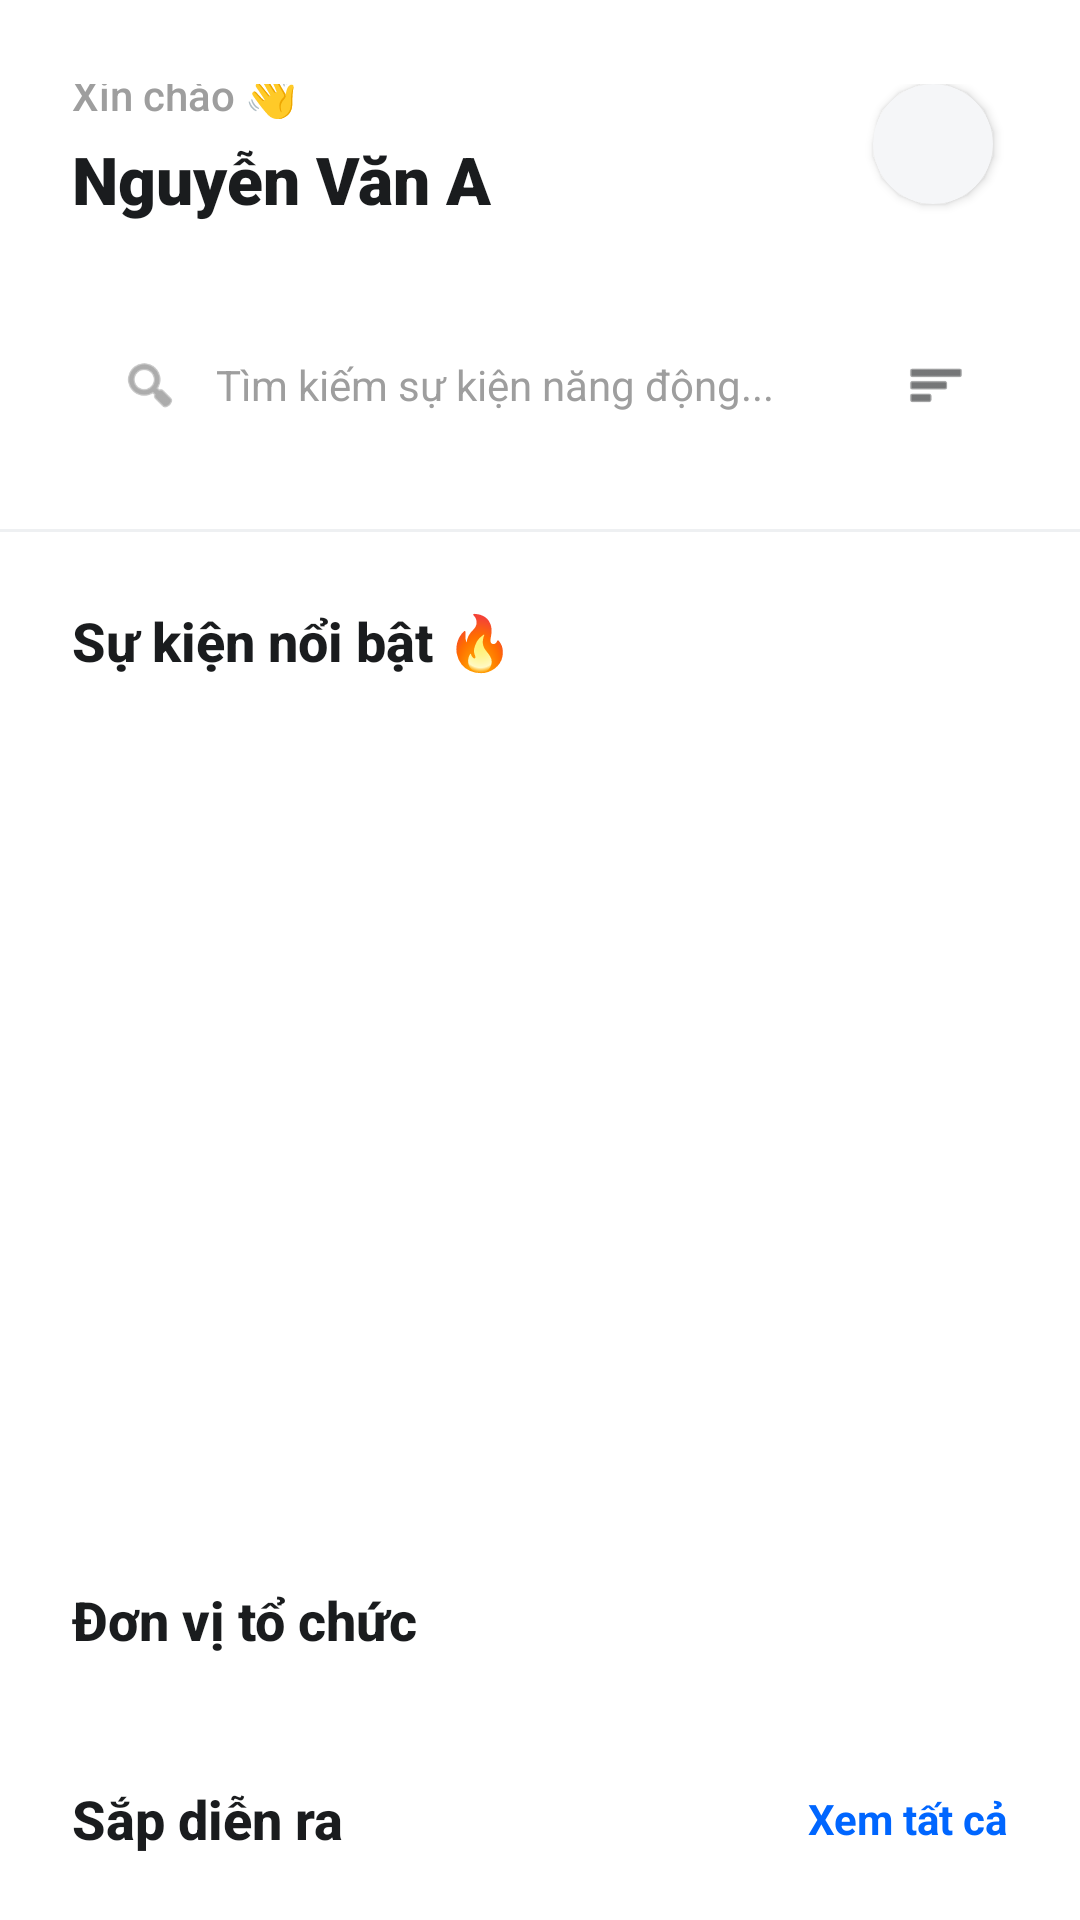

Point at icon controls on the screen. Image size 1080x1920, points as (x=x, y=y).
search: (x=150, y=385)
sort by size: (x=936, y=385)
